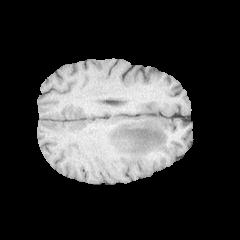glioma: (101, 119, 170, 165)
